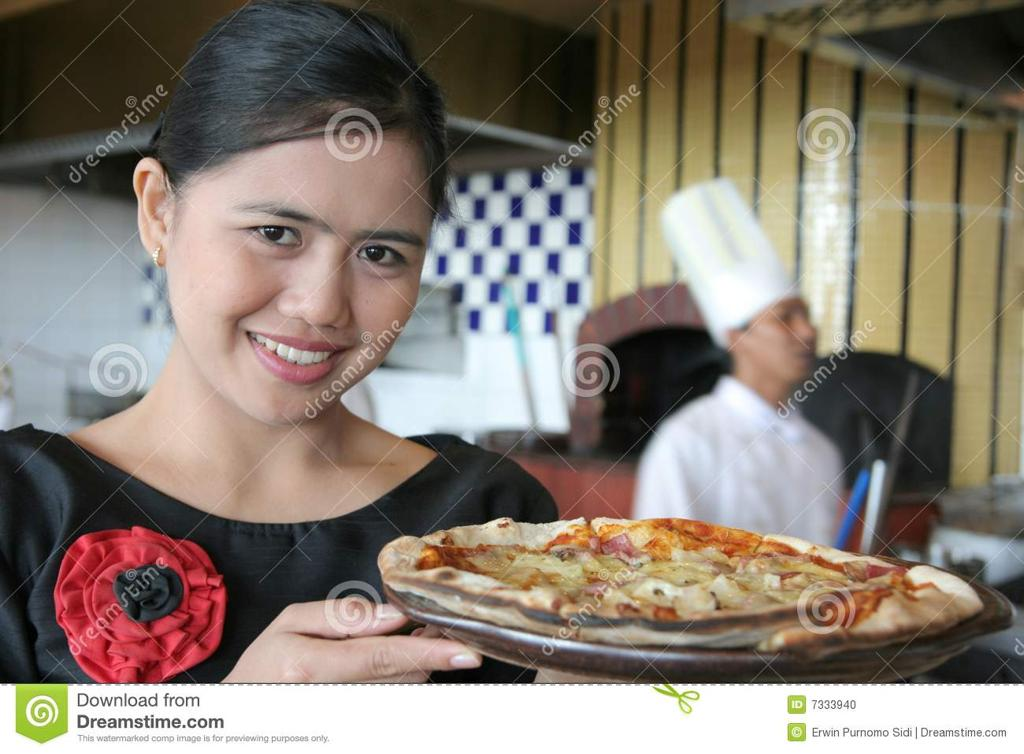face: (174, 102, 432, 424), (750, 290, 814, 376)
